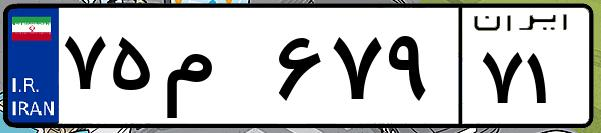1: (525, 38, 570, 115)
5: (110, 28, 158, 98)
6: (270, 28, 330, 110)
7: (330, 28, 385, 110), (57, 26, 110, 100), (475, 38, 525, 113)
9: (385, 28, 445, 110)
م: (158, 20, 270, 120)
